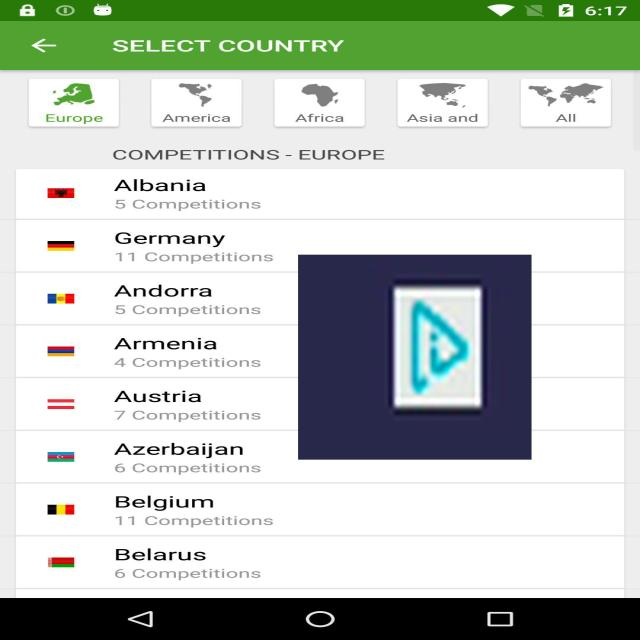sneaking: (298, 255, 532, 460)
